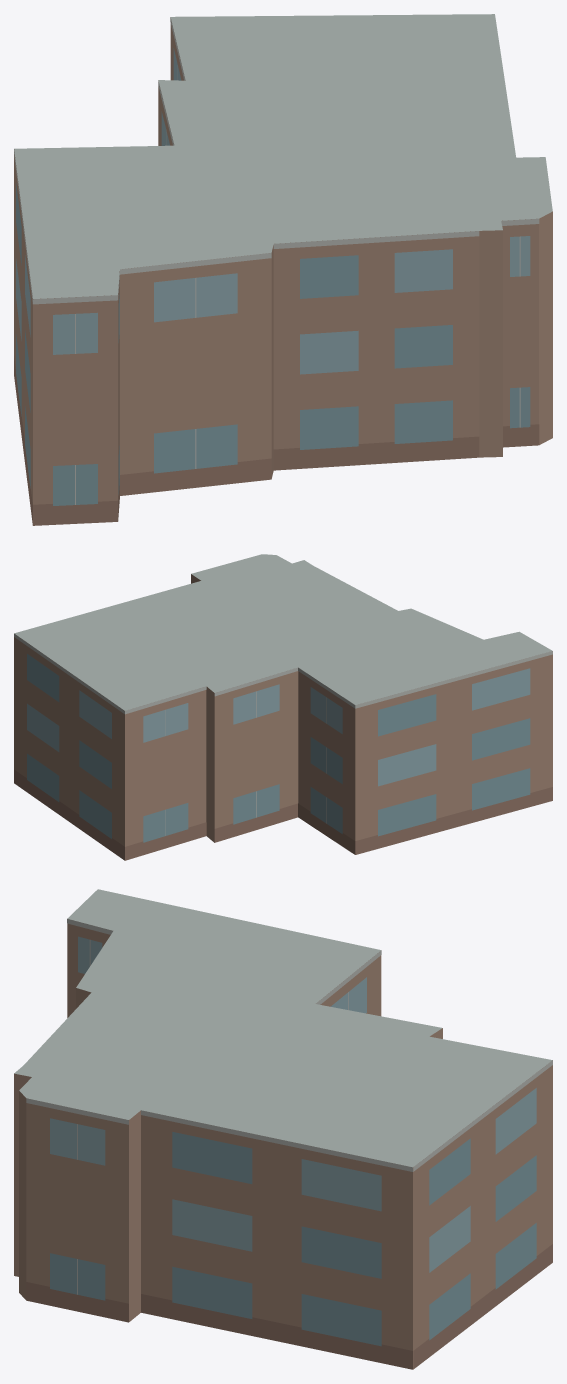
The model's file is survey-upis-32480467.glb.
The picture shows the model from 3 angles, top to bottom: view 1: azimuth 30°, elevation 25°; view 2: azimuth 150°, elevation 25°; view 3: azimuth 270°, elevation 25°; orthographic projection. The views are drawn at different scales.
Parts seen in each view (by area): view 1: survey-upis-32480467.tmp; view 2: survey-upis-32480467.tmp; view 3: survey-upis-32480467.tmp.
Boxes of the visible parts, x1,y1,x2,y2 form: survey-upis-32480467.tmp: (14, 14, 552, 525); survey-upis-32480467.tmp: (14, 554, 552, 860); survey-upis-32480467.tmp: (14, 889, 552, 1369).
Size of the model in its own units: 30.67 by 10.4 by 25.1.
